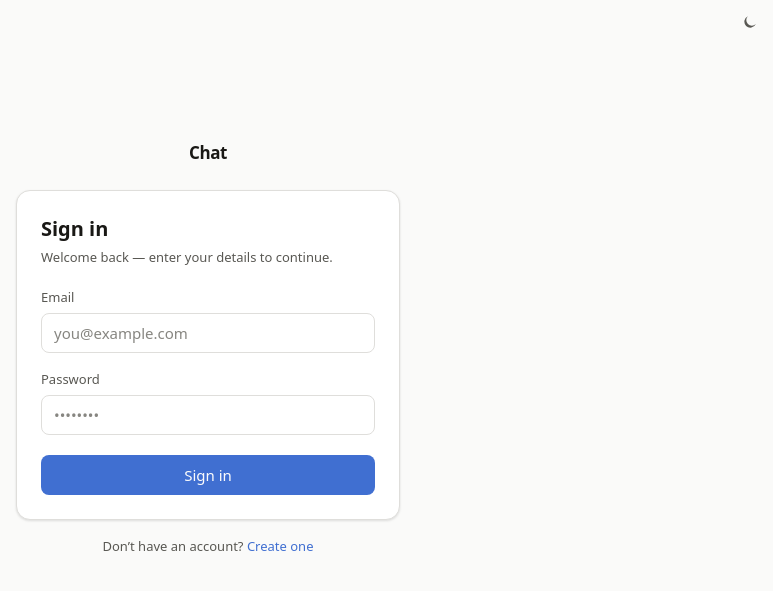
Test: Login › blocks submission and shows field errors when required fields are empty
expect the heading "Sign in" is shown: met, box left=41, top=215, right=108, bottom=242
Click the button "Sign in": (208, 475) left=41, top=455, right=375, bottom=495
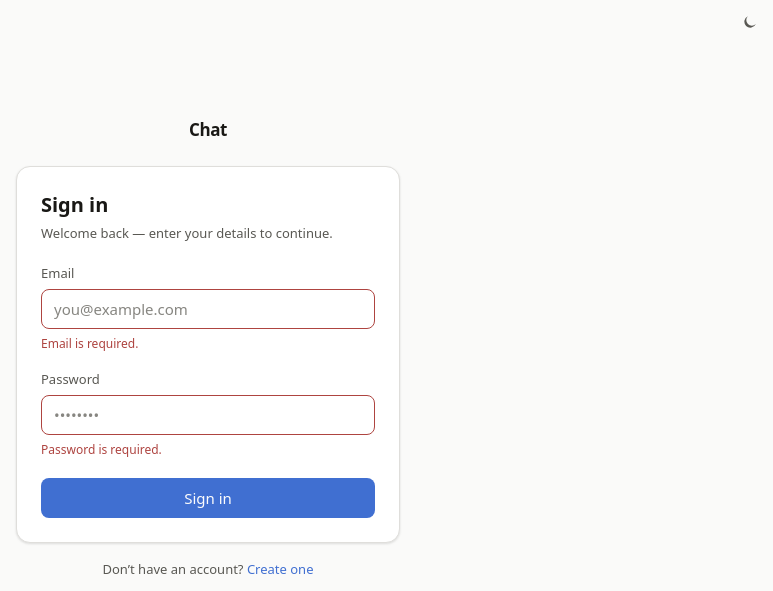
expect the text "Email is required." is shown: met, box left=41, top=335, right=138, bottom=352
expect the text "Password is required." is shown: met, box left=41, top=441, right=162, bottom=458
